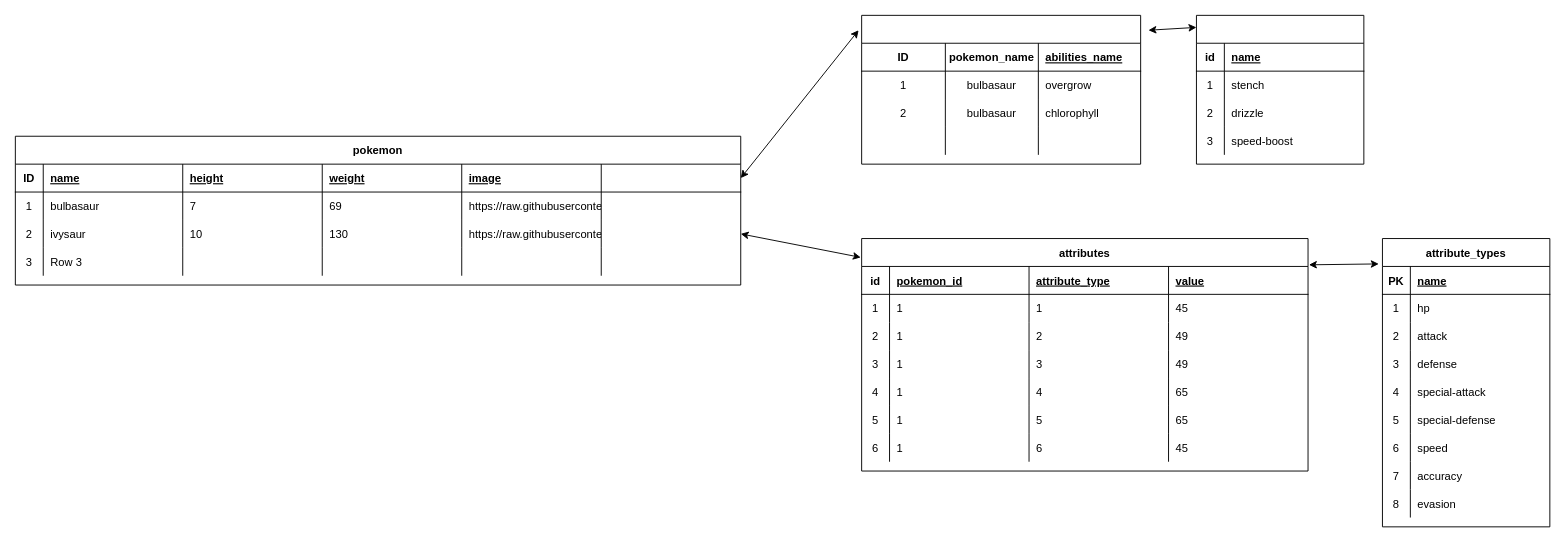
Image size: 1565x542. Some labels were removed from this diagram. The box of each missing label's shape, as (x1, y1, x2, y2) in pixels:
abilities: (1196, 14, 1364, 164)
pokemon_abilities: (861, 14, 1141, 164)
